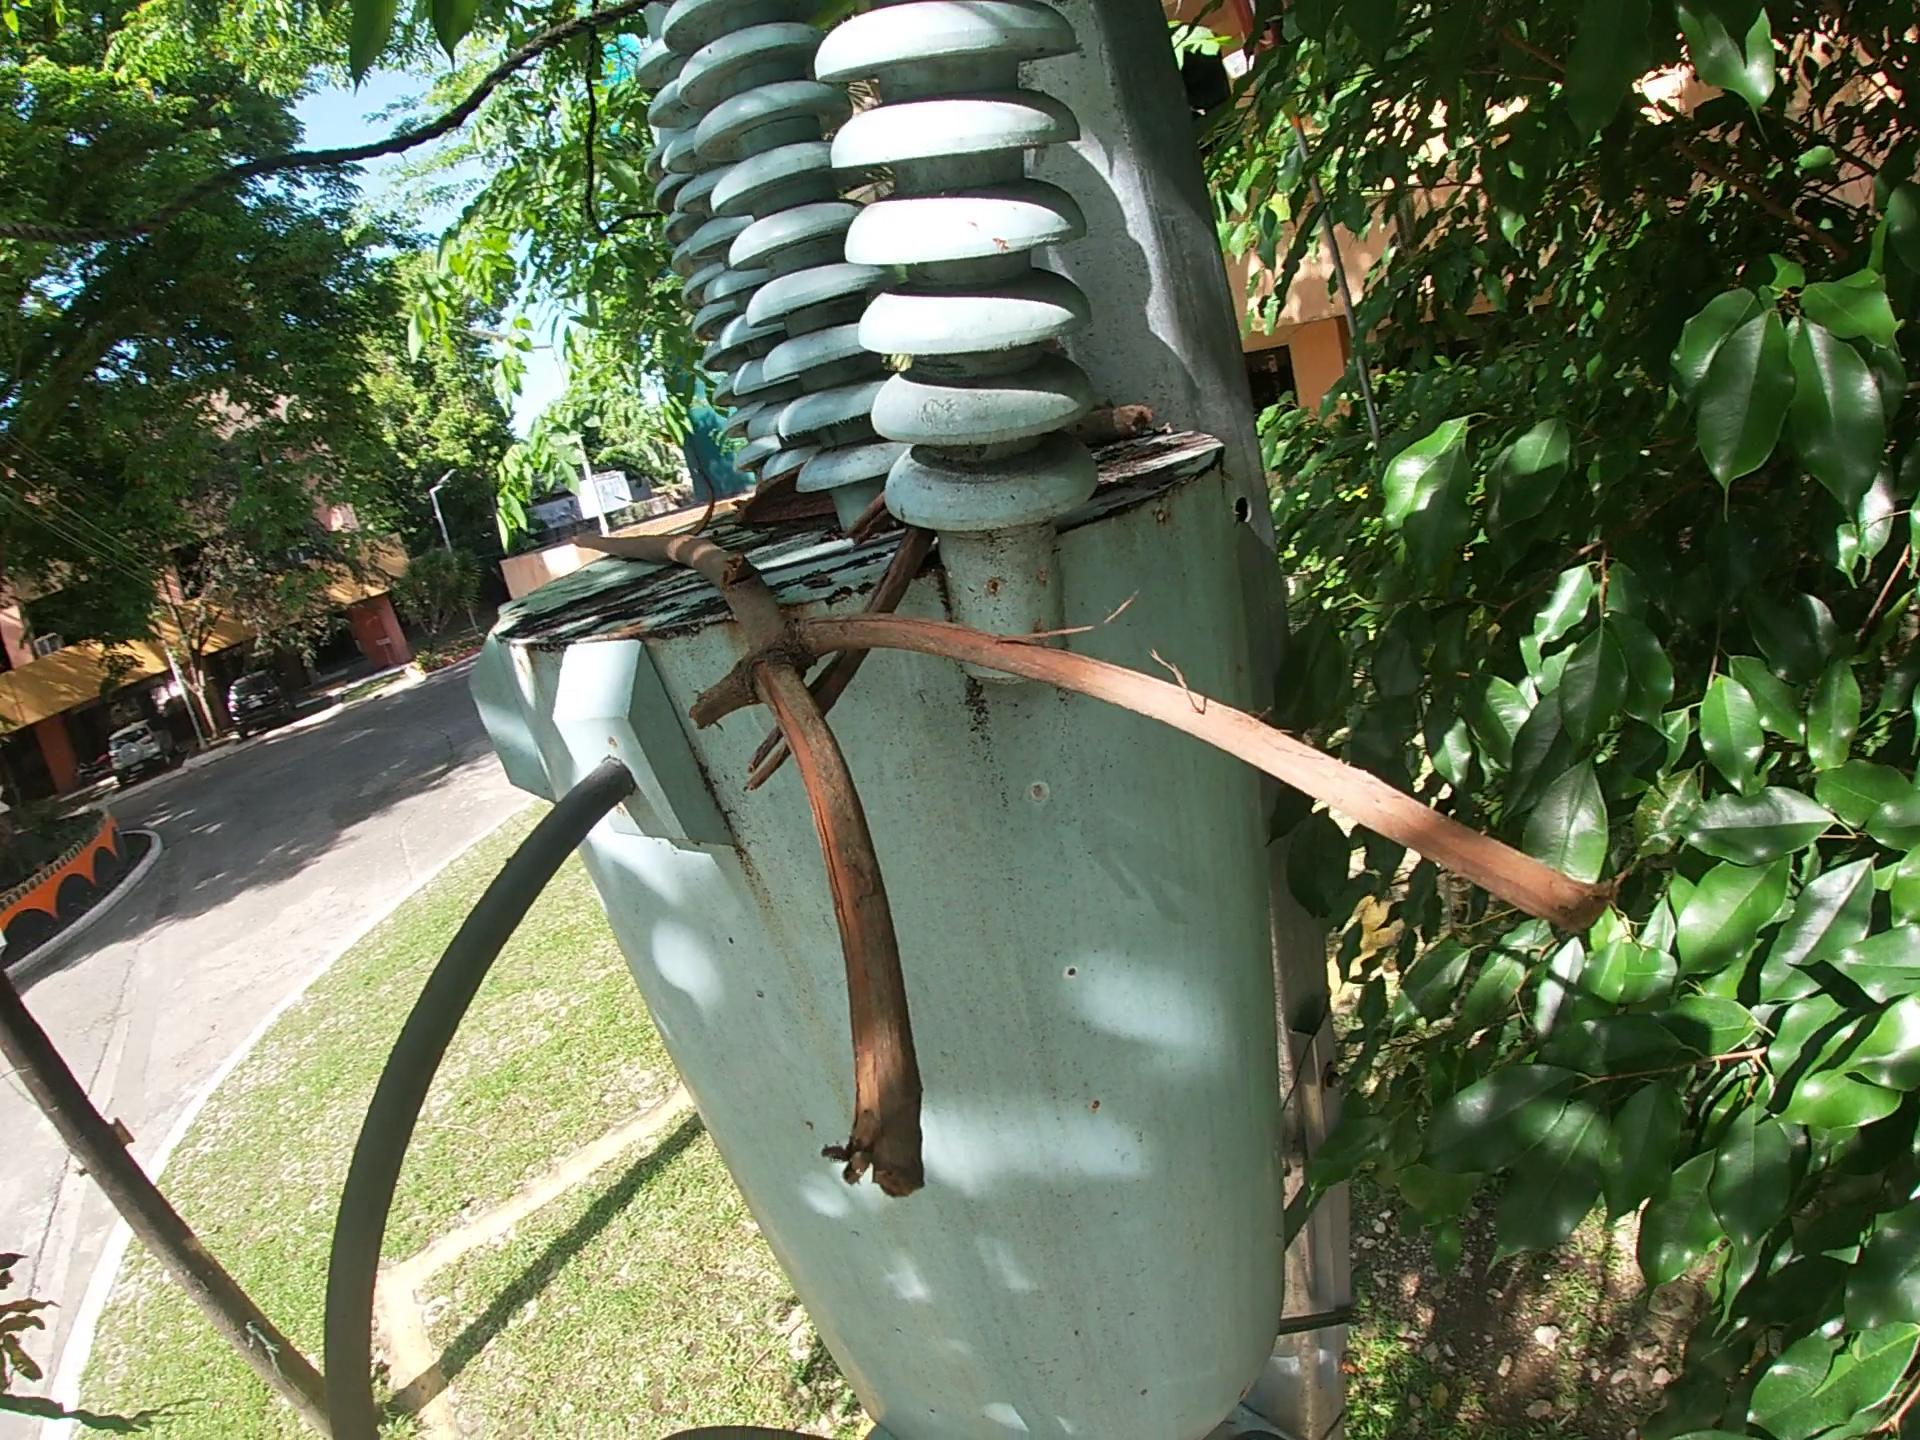mahogany fruit: (738, 470, 828, 531), (686, 473, 718, 542)
tree branch: (555, 529, 1658, 1212), (729, 507, 936, 794), (1081, 402, 1185, 452)
